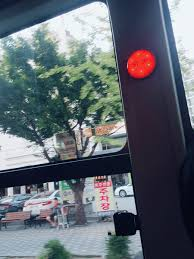bell: (126, 49, 157, 79)
